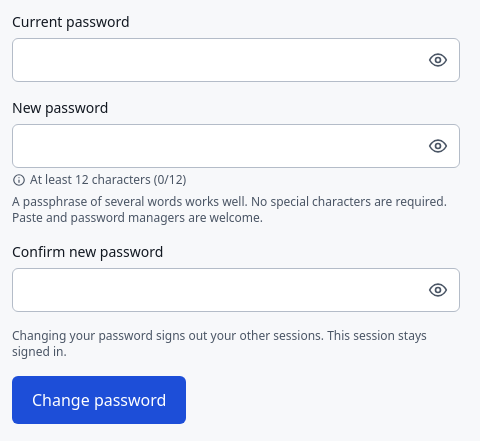
password change › shows the live length requirement without a strength meter
Type "short" into the password field labelled "New password".
click(236, 146); type("short")  # box [12,124,460,168]
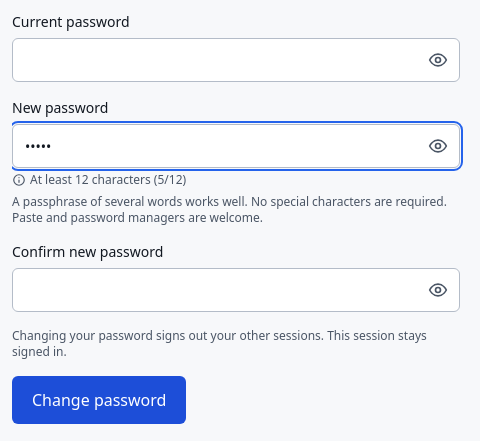
Check: the text "At least 12 characters (5/12)" is shown, box [12,171,186,188]
